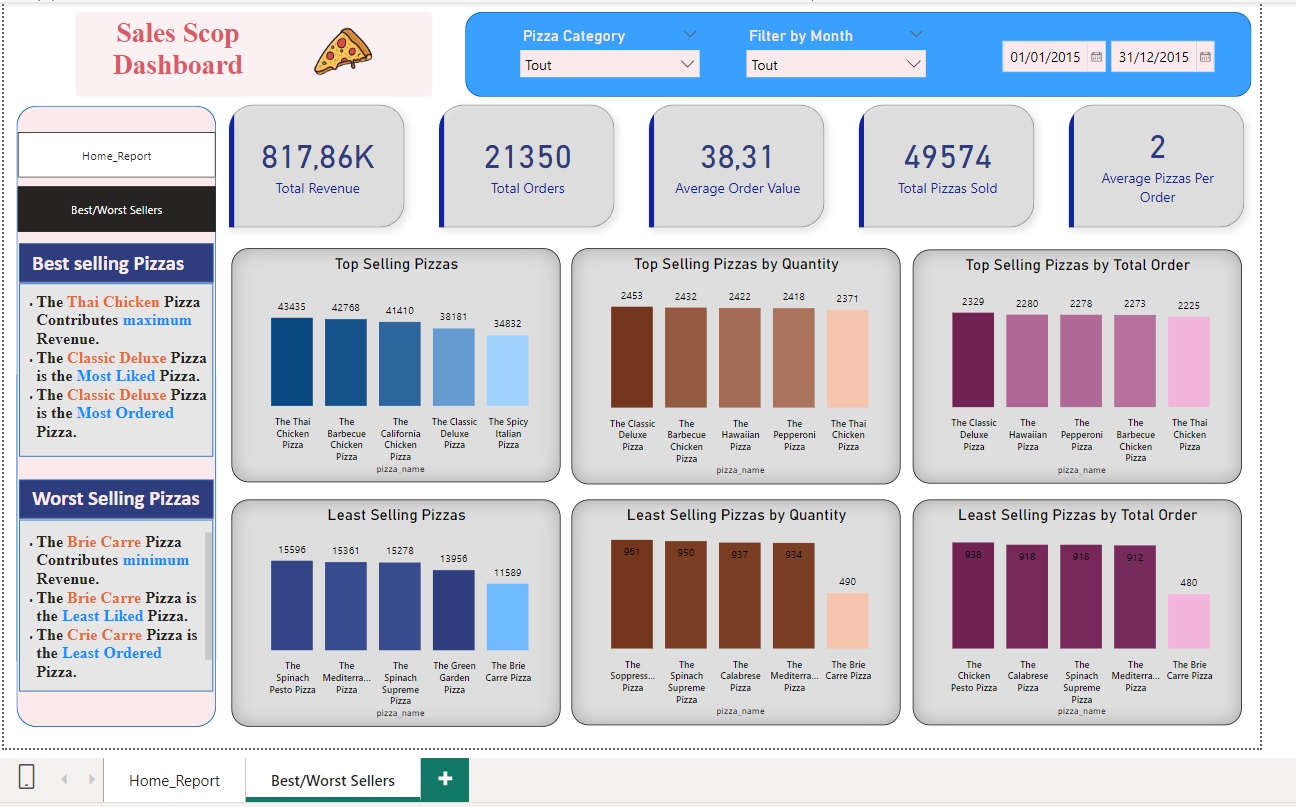

This screenshot's page, from the dashboard's own definition file:
{"tool":"powerbi","page":{"name":"Best/Worst Sellers","canvas":[1460,867],"ordinal":1},"visuals":[{"type":"cardVisual","fields":{"Data":["pizza_sales.Total Revenue","pizza_sales.Total Orders","pizza_sales.Average Order Value","pizza_sales.Total Pizzas Sold","pizza_sales.Average Pizzas Per Order"]},"box":[245.5,103.3,1213.8,175.3],"z":0},{"type":"columnChart","title":"Top Selling Pizzas","fields":{"Category":["pizza_sales.pizza_name"],"Y":["pizza_sales.Total Revenue"]},"box":[264,286,382,272],"z":1000},{"type":"shape","box":[14,120,232,722],"z":2000},{"type":"shape","box":[14,278,232,52],"z":3000},{"type":"shape","box":[14,552.7,232,52],"z":4000},{"type":"shape","box":[14.2,324.2,231.7,207.5],"z":5000},{"type":"shape","box":[14.2,598.3,231.7,205.8],"z":6000},{"type":"textbox","box":[28,557,263,41],"z":7000},{"type":"textbox","box":[28,284,263,40],"z":8000},{"type":"textbox","box":[14,332,232,228],"z":9000},{"type":"textbox","box":[14,612,232,178],"z":10000},{"type":"columnChart","title":"Top Selling Pizzas by Quantity","fields":{"Category":["pizza_sales.pizza_name"],"Y":["Sum(pizza_sales.quantity)"]},"box":[660,286,382,274],"z":11000},{"type":"columnChart","title":"Top Selling Pizzas by Total Order","fields":{"Category":["pizza_sales.pizza_name"],"Y":["pizza_sales.Total Orders"]},"box":[1056,288,382,272],"z":12000},{"type":"columnChart","title":"Least Selling Pizzas by Total Order","fields":{"Category":["pizza_sales.pizza_name"],"Y":["pizza_sales.Total Orders"]},"box":[1056,578,382,262],"z":13000},{"type":"columnChart","title":"Least Selling Pizzas by Quantity","fields":{"Category":["pizza_sales.pizza_name"],"Y":["Sum(pizza_sales.quantity)"]},"box":[660,578,382,262],"z":14000},{"type":"columnChart","title":"Least Selling Pizzas","fields":{"Category":["pizza_sales.pizza_name"],"Y":["pizza_sales.Total Revenue"]},"box":[264,578,382,264],"z":15000},{"type":"shape","box":[210.8,222.5,26.7,36.7],"z":16000},{"type":"pageNavigator","box":[15.8,150.8,230,117.5],"z":17000},{"type":"shape","title":"Pizza Sales Analysis/Dashboard  (2015)","box":[536.1,11.6,913.8,98.8],"z":18000},{"type":"slicer","fields":{"Values":["pizza_sales.pizza_category"]},"box":[589.8,23.2,228.1,75.5],"z":19000},{"type":"slicer","fields":{"Values":["pizza_sales.order_date"]},"box":[1147.7,34.9,265.9,52.3],"z":20000},{"type":"slicer","fields":{"Values":["pizza_sales.Order Month"]},"box":[852.8,23.2,228.1,75.5],"z":21000},{"type":"textbox","box":[113.3,11.6,177.2,87.2],"z":22001},{"type":"image","box":[321.1,5.8,146.7,103.1],"z":22002},{"type":"shape","box":[82.8,11.6,415.5,98.8],"z":22003}]}

Visuals, with their boxes on the page's 1460x867 design canvas (x1, y1, x2, y2). These are canvas units, not pixel positions in the 1296x807 screenshot, which may show the page scaled, cropped or inside an application window:
cardVisual - pizza_sales.Total Revenue x pizza_sales.Total Orders: x1=246 y1=103 x2=1459 y2=279
"Top Selling Pizzas" columnChart: x1=264 y1=286 x2=646 y2=558
shape: x1=14 y1=120 x2=246 y2=842
shape: x1=14 y1=278 x2=246 y2=330
shape: x1=14 y1=553 x2=246 y2=605
shape: x1=14 y1=324 x2=246 y2=532
shape: x1=14 y1=598 x2=246 y2=804
textbox: x1=28 y1=557 x2=291 y2=598
textbox: x1=28 y1=284 x2=291 y2=324
textbox: x1=14 y1=332 x2=246 y2=560
textbox: x1=14 y1=612 x2=246 y2=790
"Top Selling Pizzas by Quantity" columnChart: x1=660 y1=286 x2=1042 y2=560
"Top Selling Pizzas by Total Order" columnChart: x1=1056 y1=288 x2=1438 y2=560
"Least Selling Pizzas by Total Order" columnChart: x1=1056 y1=578 x2=1438 y2=840
"Least Selling Pizzas by Quantity" columnChart: x1=660 y1=578 x2=1042 y2=840
"Least Selling Pizzas" columnChart: x1=264 y1=578 x2=646 y2=842
shape: x1=211 y1=222 x2=238 y2=259
pageNavigator: x1=16 y1=151 x2=246 y2=268
"Pizza Sales Analysis/Dashboard  (2015)" shape: x1=536 y1=12 x2=1450 y2=110
slicer - pizza_sales.pizza_category: x1=590 y1=23 x2=818 y2=99
slicer - pizza_sales.order_date: x1=1148 y1=35 x2=1414 y2=87
slicer - pizza_sales.Order Month: x1=853 y1=23 x2=1081 y2=99
textbox: x1=113 y1=12 x2=290 y2=99
image: x1=321 y1=6 x2=468 y2=109
shape: x1=83 y1=12 x2=498 y2=110
